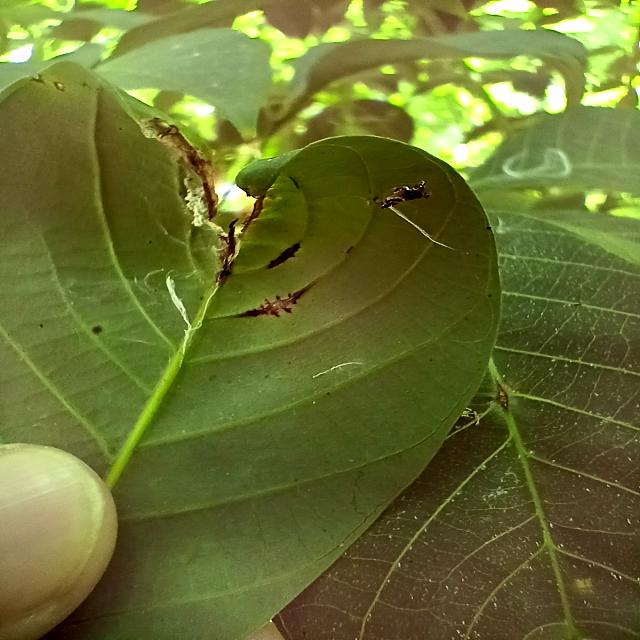Corynespora: (239, 285, 312, 318), (267, 242, 302, 270)
